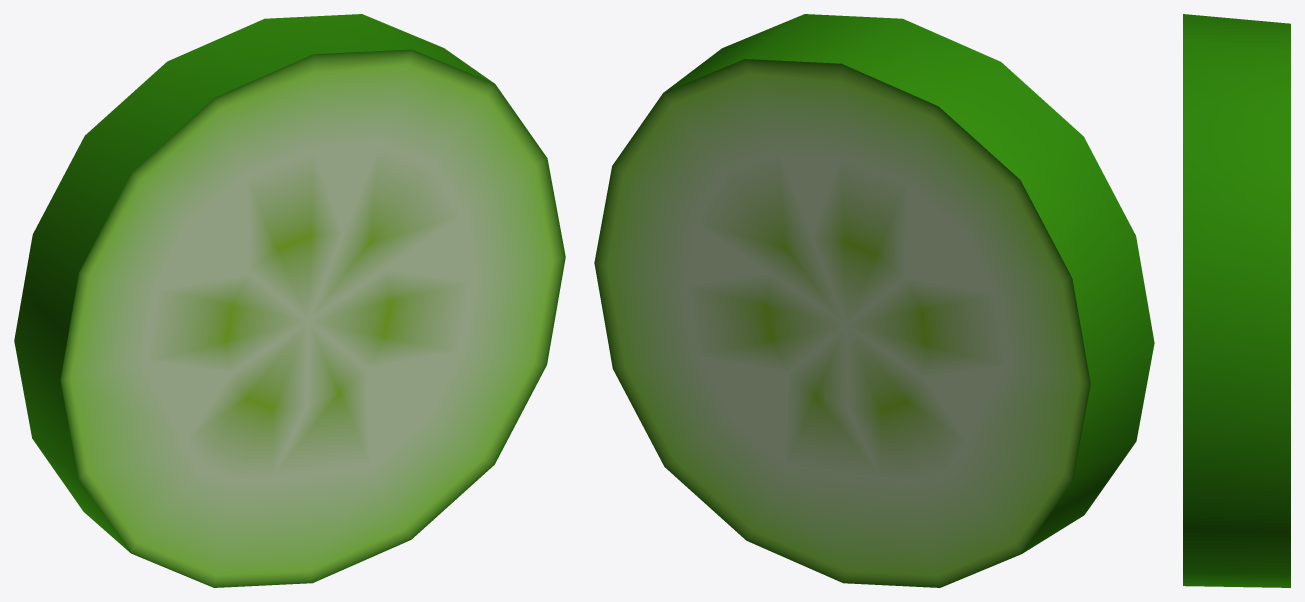
Rendered from Cucumber_Slice_13.fbx.
The picture shows the model from 3 angles, left to right: view 1: azimuth 30°, elevation 25°; view 2: azimuth 150°, elevation 25°; view 3: azimuth 270°, elevation 25°; orthographic projection. The views are drawn at different scales.
Visible parts, largest first — view 1: Cucumber_Slice_13; view 2: Cucumber_Slice_13; view 3: Cucumber_Slice_13.
Boxes of the visible parts, <box> form: Cucumber_Slice_13: <box>14,14,565,587</box>; Cucumber_Slice_13: <box>594,14,1154,587</box>; Cucumber_Slice_13: <box>1183,14,1290,587</box>.
Bounding box in the file's own units: 4.58 × 4.56 × 0.8617.
